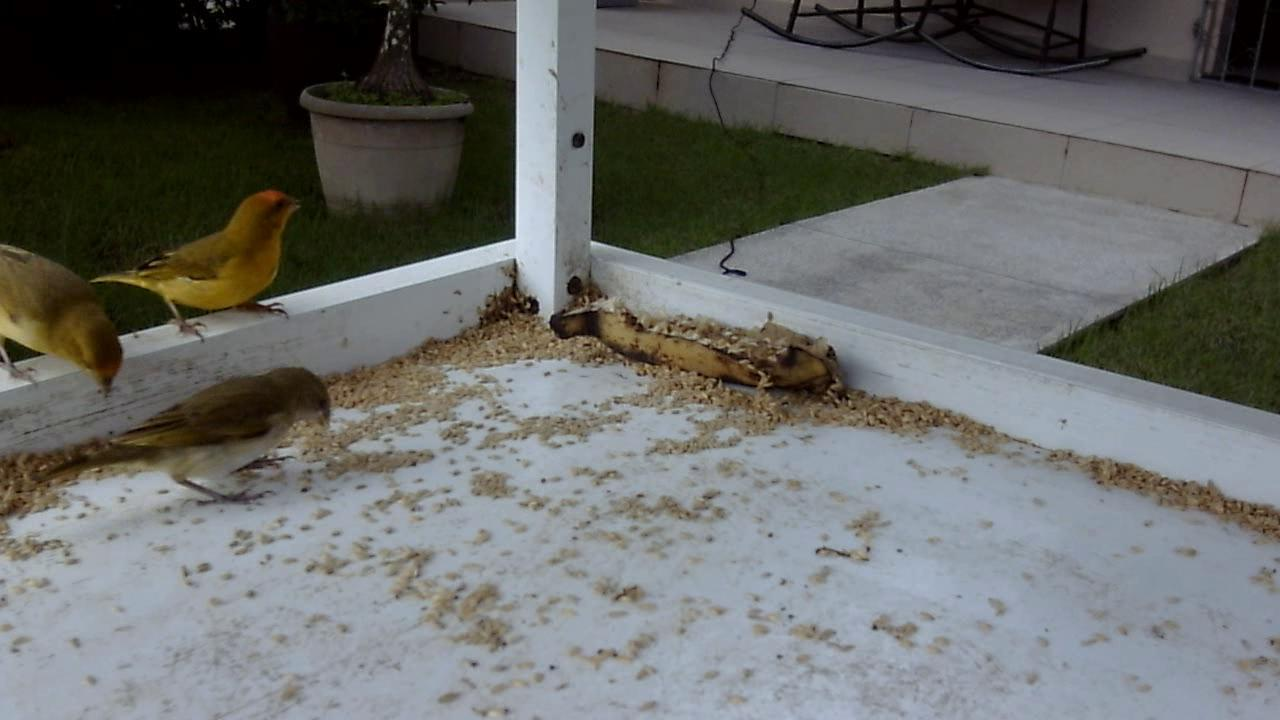canario_do_amazonas: (33, 359, 346, 519), (88, 184, 312, 349), (1, 236, 127, 415)
